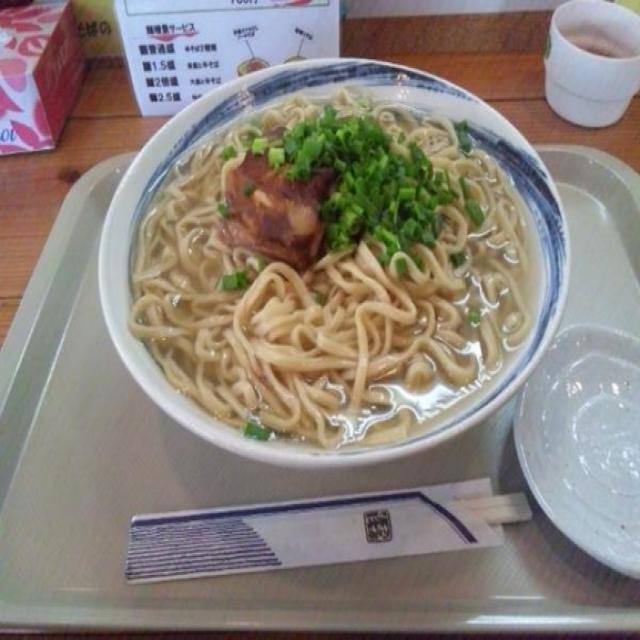蔬菜料理: (0, 64, 640, 548)
